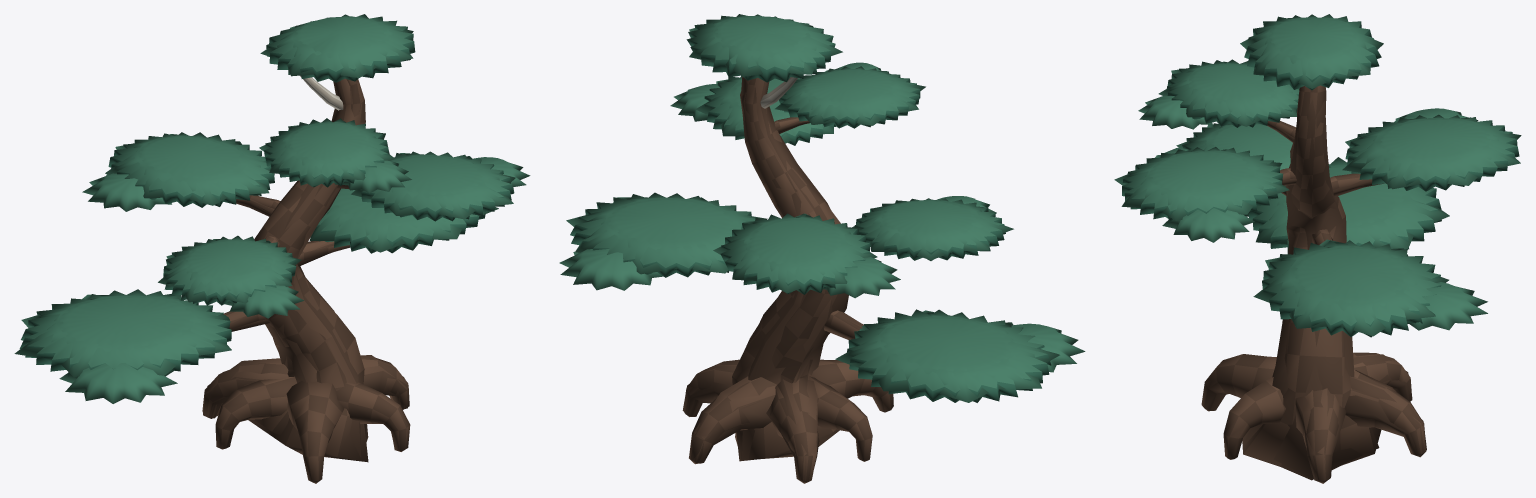
File: tree_pine.glb
3 views of the same model, side by side, from view 1: azimuth 30°, elevation 25°; view 2: azimuth 150°, elevation 25°; view 3: azimuth 270°, elevation 25° (orthographic). The views are drawn at different scales.
Parts seen in each view (by area): view 1: foliage_body_nl, trunk, foliage__far_body_nl, trunk__far_body_nl; view 2: foliage_body_nl, trunk, foliage__far_body_nl, trunk__far_body_nl; view 3: foliage_body_nl, trunk, foliage__far_body_nl, trunk__far_body_nl.
Boxes of the visible parts, left/top/right/bottom form: foliage_body_nl: left=19, top=14, right=530, bottom=403; trunk: left=202, top=75, right=410, bottom=483; foliage__far_body_nl: left=14, top=16, right=515, bottom=377; trunk__far_body_nl: left=203, top=78, right=409, bottom=457; foliage_body_nl: left=559, top=14, right=1085, bottom=402; trunk: left=683, top=76, right=893, bottom=482; foliage__far_body_nl: left=566, top=16, right=1059, bottom=402; trunk__far_body_nl: left=682, top=78, right=863, bottom=483; foliage_body_nl: left=1122, top=14, right=1519, bottom=337; trunk: left=1201, top=85, right=1426, bottom=482; foliage__far_body_nl: left=1114, top=17, right=1521, bottom=336; trunk__far_body_nl: left=1244, top=99, right=1426, bottom=483.
Size of the model in its own units: 80.05 by 68.18 by 57.7.
